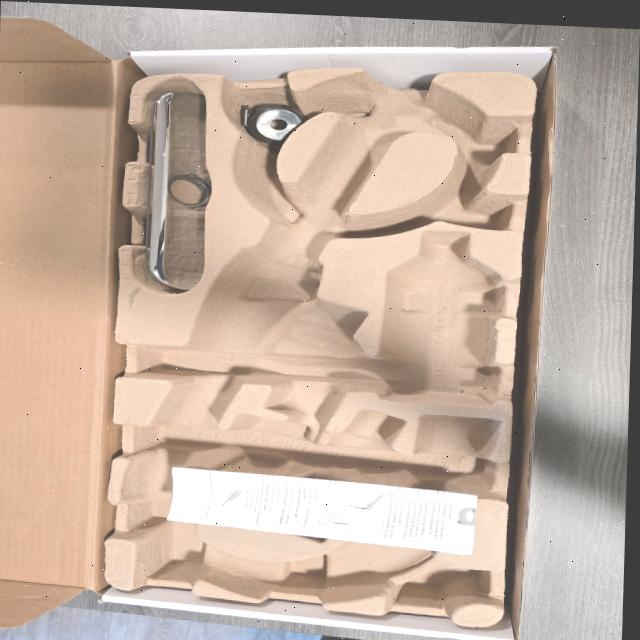1m: (126, 68, 501, 600)
2m: (223, 408, 404, 541)
3m: (382, 230, 504, 403)
4: (147, 91, 209, 291)
5: (240, 103, 305, 145)
6m: (423, 100, 516, 163)
7m: (371, 169, 513, 231)
8: (164, 465, 476, 554)
